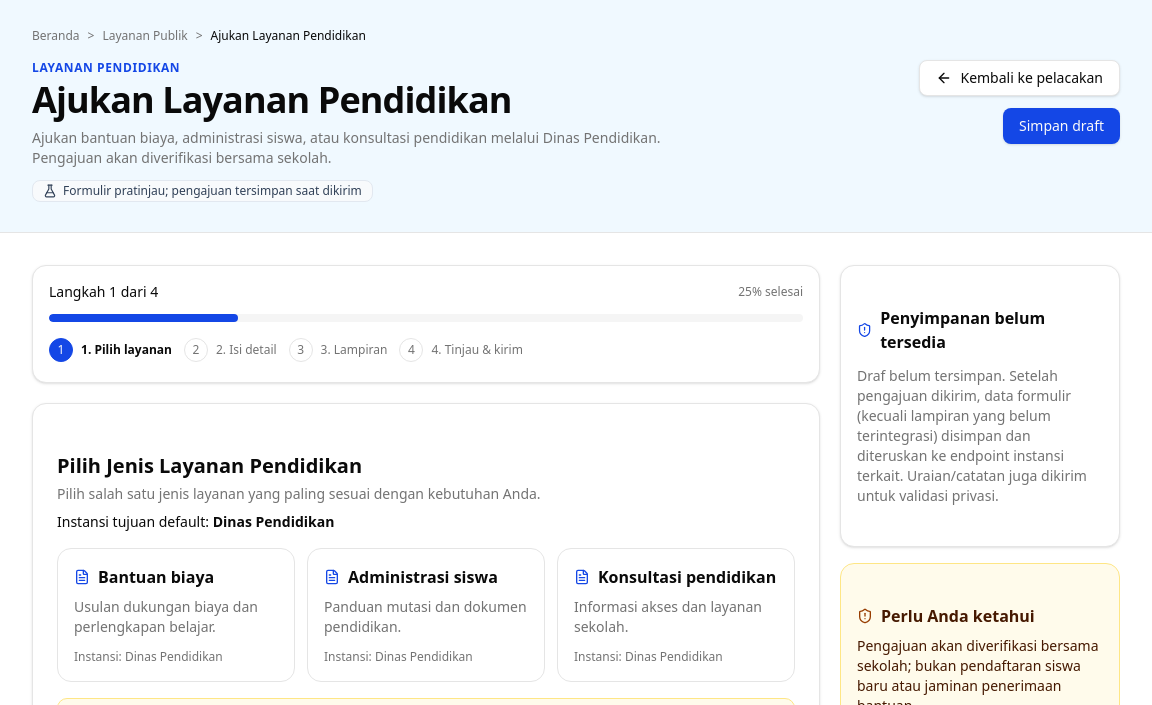
Test: EducationApplicationPage › shows consultation questions, school context, and privacy guidance
Click the radio button labelled "Konsultasi pendidikan" at x=676, y=615, box [557,548,795,682]
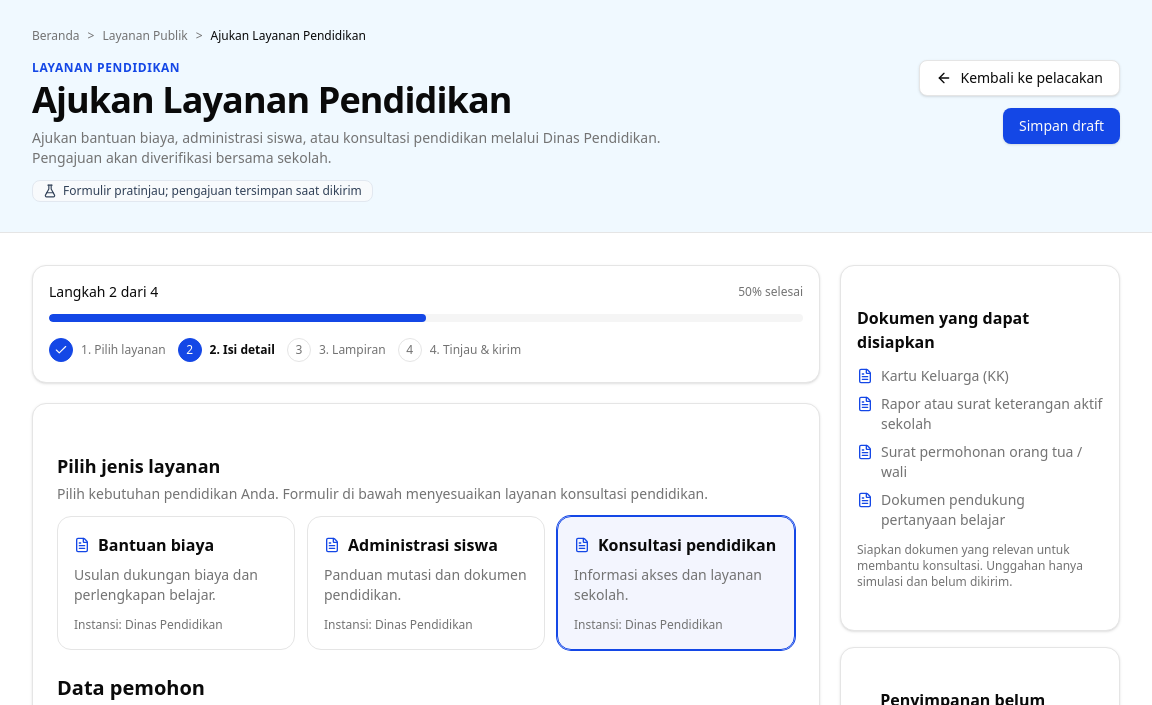
Now the heading "Dokumen yang dapat disiapkan" is shown, box [857,307,1029,353]
